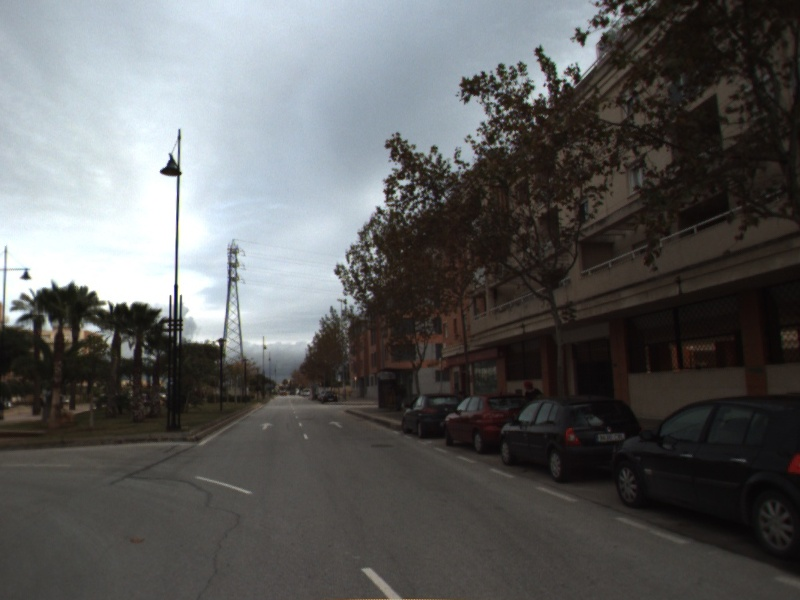STRAIGHT: (258, 420, 276, 432), (327, 419, 345, 430)
